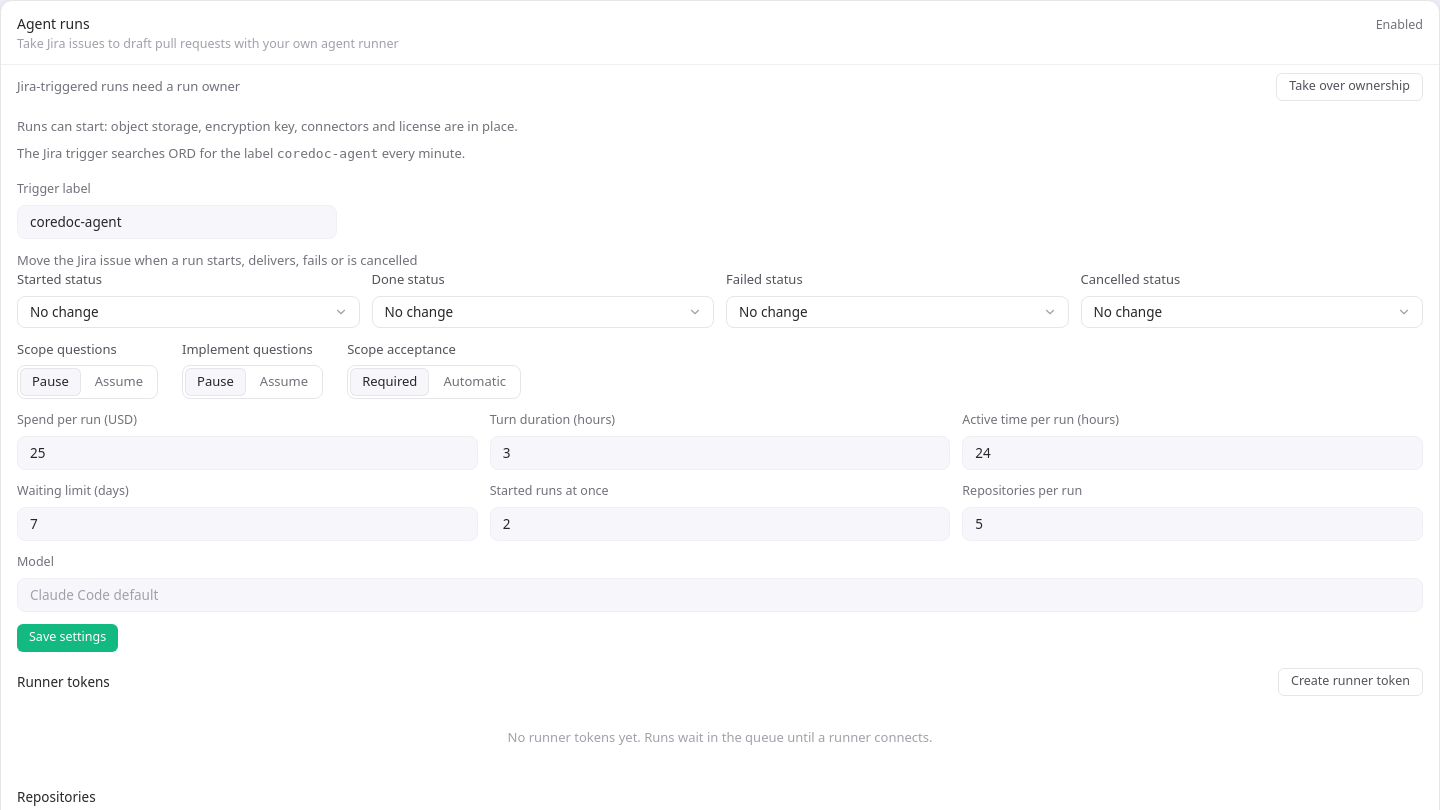
Test: AgentRunsPanel › an enabled workspace without a run owner lets an admin take ownership
This screenshot has width=1440, height=810.
Click the button "Take over ownership" at [1350, 87], box [1276,73,1423,101]
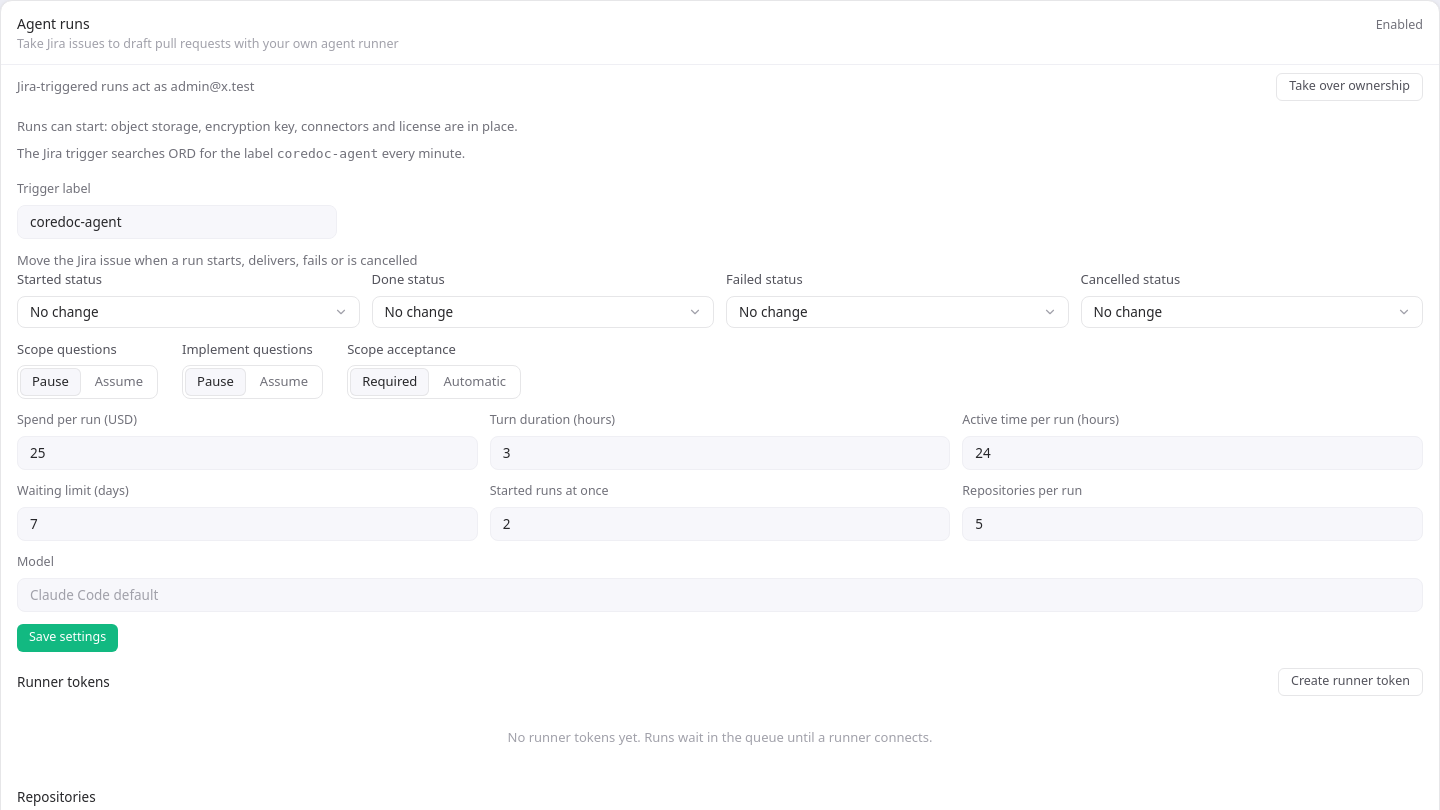
Check: the text "Jira-triggered runs act as admin@x.test" is shown, box [17,77,254,96]
